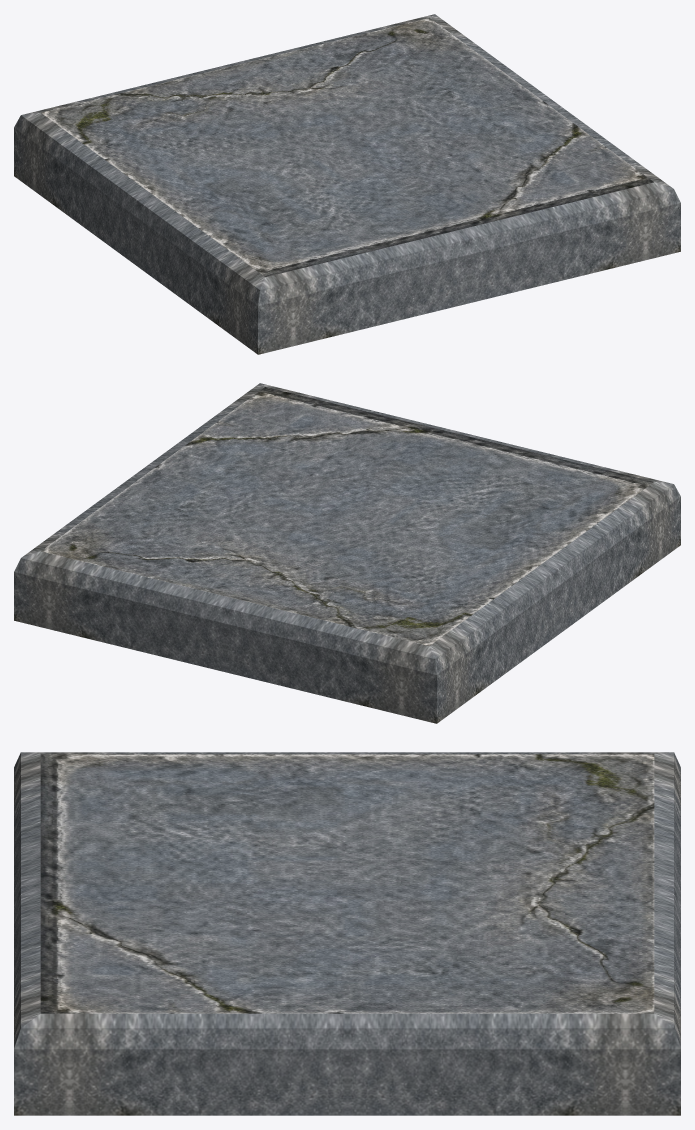
The model's file is paving_square_crack.glb.
The picture shows the model from 3 angles, top to bottom: view 1: azimuth 30°, elevation 25°; view 2: azimuth 150°, elevation 25°; view 3: azimuth 270°, elevation 25°; orthographic projection. The views are drawn at different scales.
Parts seen in each view (by area): view 1: paving_square_crack; view 2: paving_square_crack; view 3: paving_square_crack.
Part boxes in pixels (bbox=[...]): paving_square_crack: bbox=[14, 14, 680, 354]; paving_square_crack: bbox=[14, 383, 680, 723]; paving_square_crack: bbox=[14, 752, 680, 1115].
Size of the model in its own units: 1 by 0.15 by 1.
Materials: 2 (2 with a texture image).
